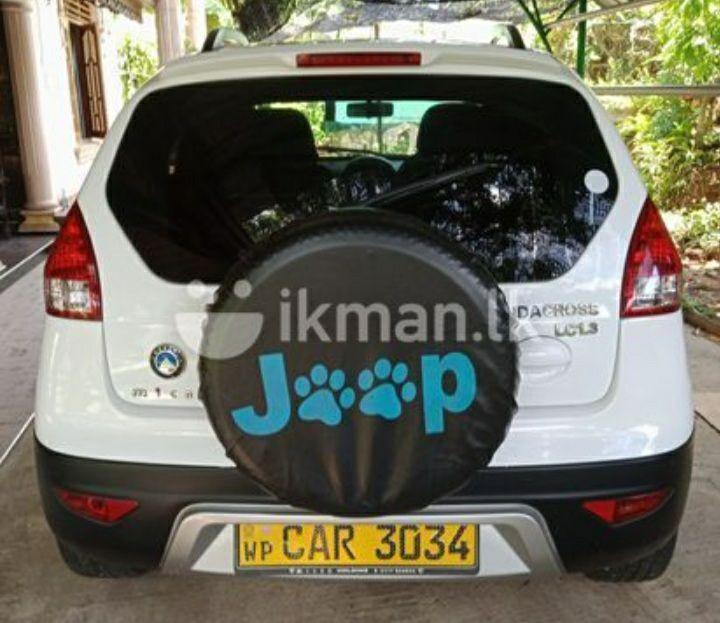license-plate: (238, 522, 475, 566)
